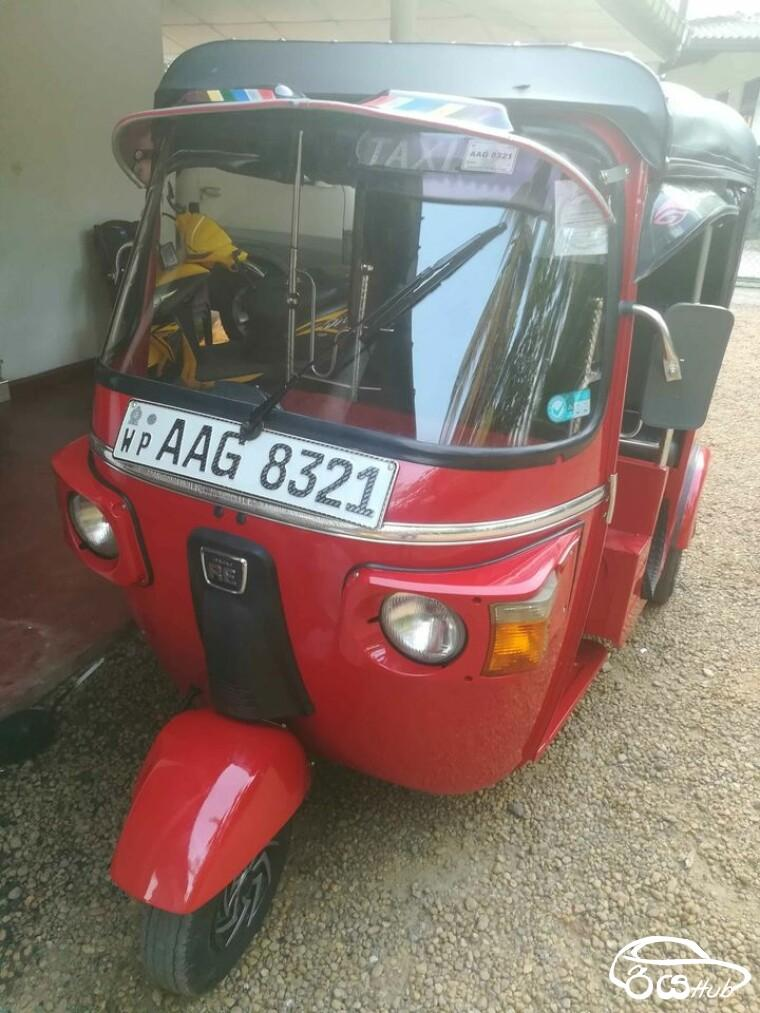threewheel: (52, 40, 760, 997)
